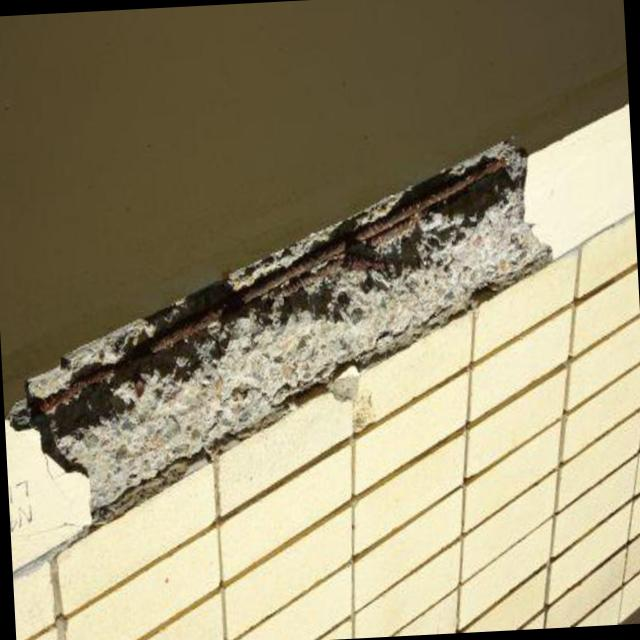spalling: (10, 143, 557, 527)
